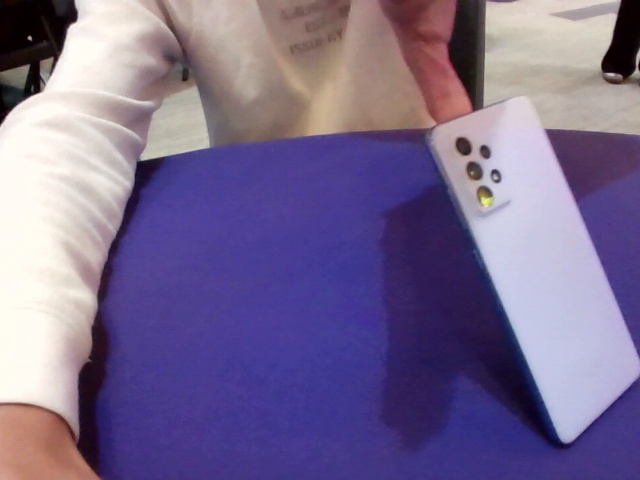celular: (423, 95, 640, 447)
